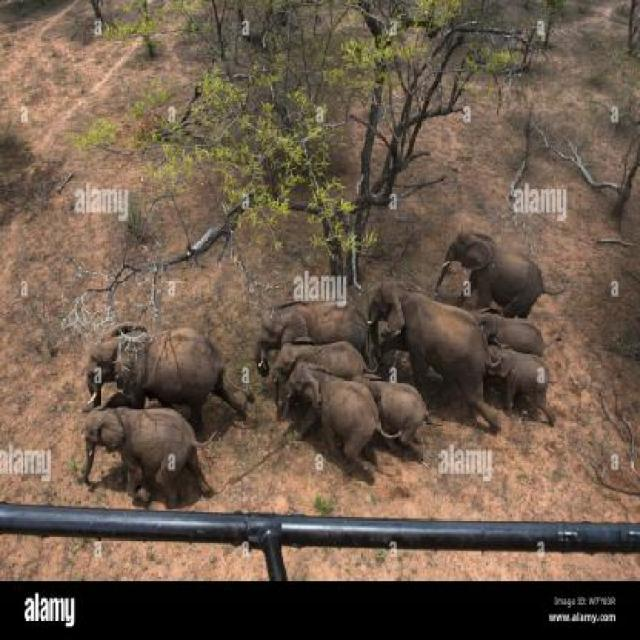elephant: (79, 310, 226, 421), (378, 274, 488, 418), (435, 220, 563, 342), (82, 408, 210, 498), (292, 363, 373, 479), (263, 295, 368, 379), (261, 337, 367, 412), (333, 378, 435, 438), (473, 354, 545, 438), (462, 310, 550, 376)
